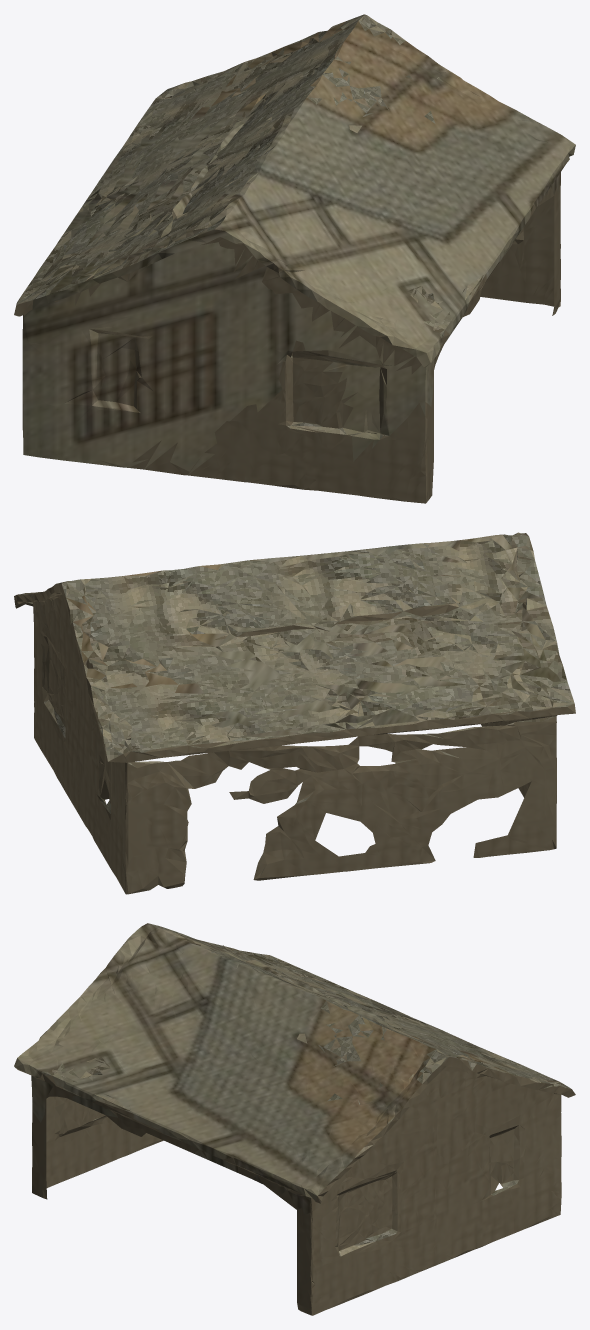
3 renders of one model, top to bottom at view 1: azimuth 30°, elevation 25°; view 2: azimuth 150°, elevation 25°; view 3: azimuth 270°, elevation 25°, orthographic. The views are drawn at different scales.
Visible parts, largest first — view 1: painted, wall, roof; view 2: roof, wall, painted; view 3: painted, wall, roof.
Boxes of the visible parts, x1,y1,x2,y2 form: painted: (15,21,575,474); wall: (14,52,560,503); roof: (16,14,483,439); roof: (26,534,574,875); wall: (14,544,575,894); painted: (18,532,560,737); painted: (14,923,513,1222); wall: (15,1001,575,1315); roof: (42,923,570,1256).
Size of the model in its own units: 5.51 by 2.34 by 5.49.
3 materials, 3 textured.
